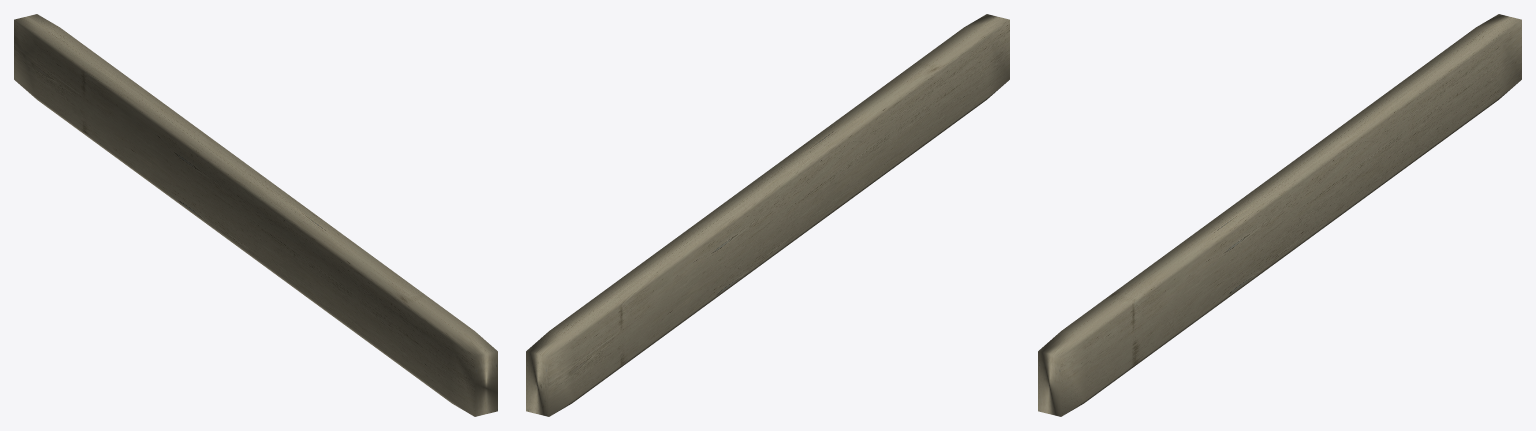
File: RoadRageDividerPixel.glb
3 views of the same model, side by side, from view 1: azimuth 30°, elevation 25°; view 2: azimuth 150°, elevation 25°; view 3: azimuth 330°, elevation 25° (orthographic).
Parts seen in each view (by area): view 1: Cube; view 2: Cube; view 3: Cube.
Part boxes in pixels (x1,y1,x2,y2): Cube: (14, 14, 497, 416); Cube: (526, 14, 1009, 416); Cube: (1038, 14, 1521, 416).
Size of the model in its own units: 0.8 by 2 by 25.
Materials: 1 (1 with a texture image).
